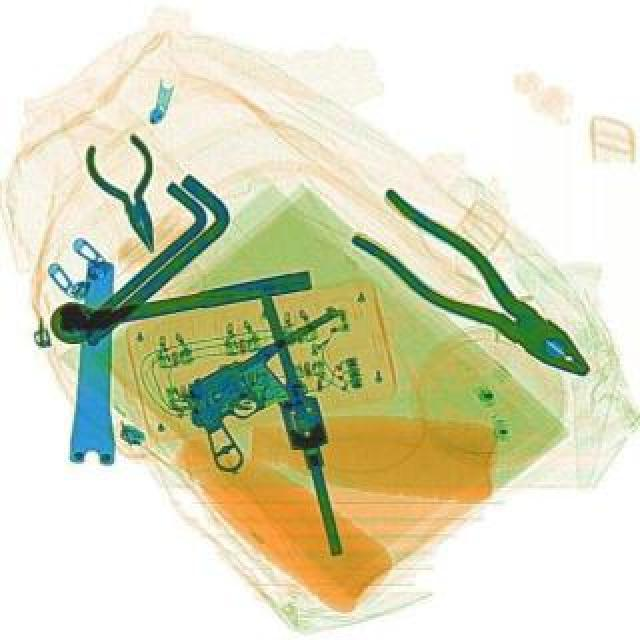gun: (164, 300, 390, 476)
wrench: (336, 182, 612, 402), (78, 128, 180, 260)
